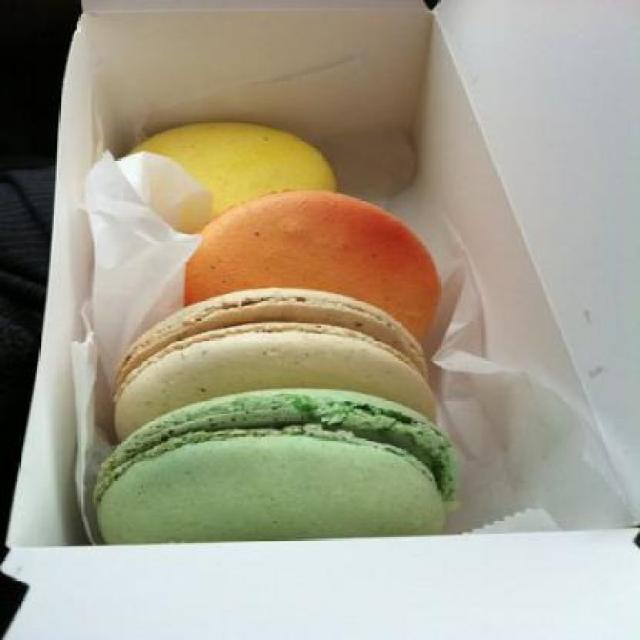Macaron: (93, 128, 496, 550)
